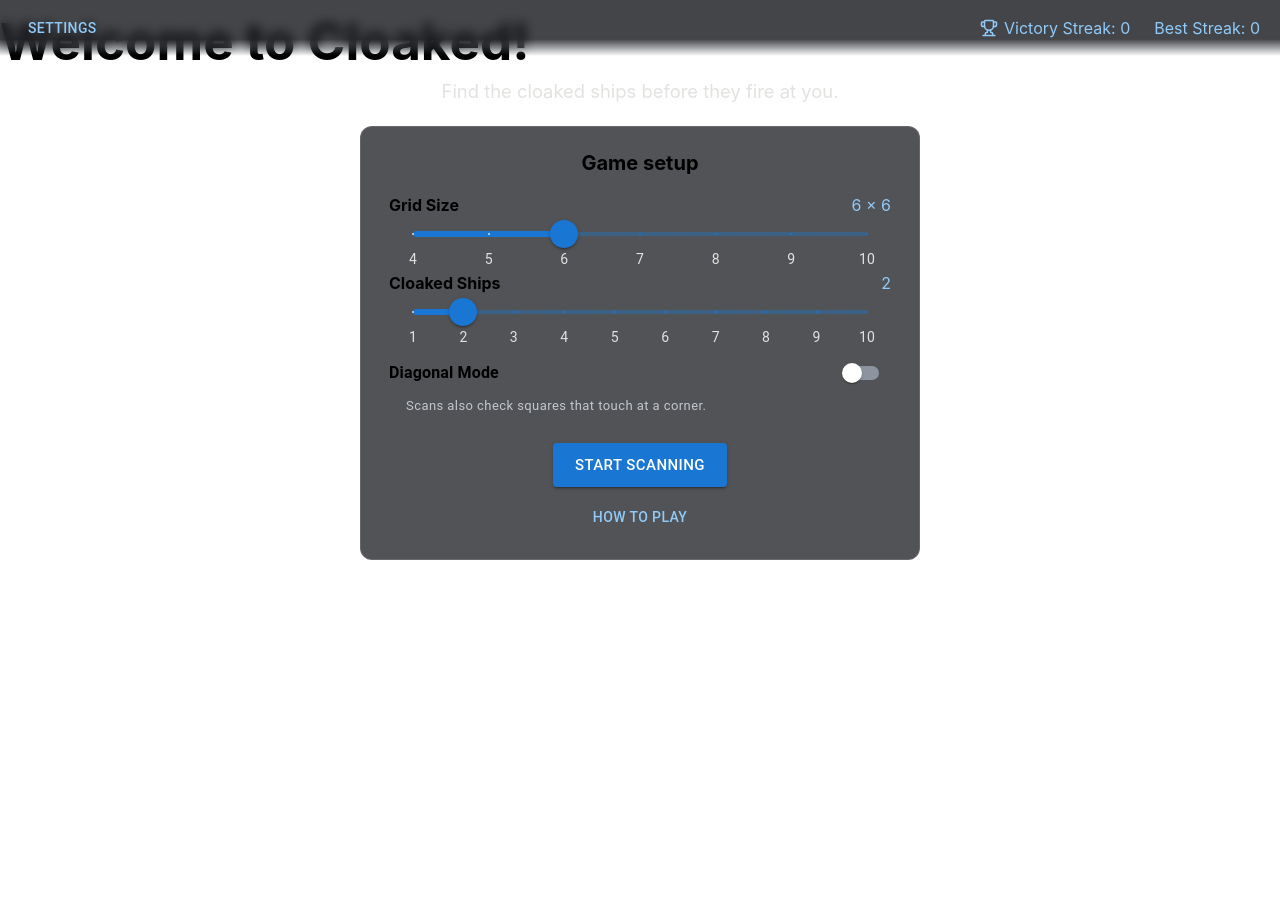
Test case: setup screen › opens How to Play
Click the button "How to Play".
click(640, 517)  # box [585,495,695,539]
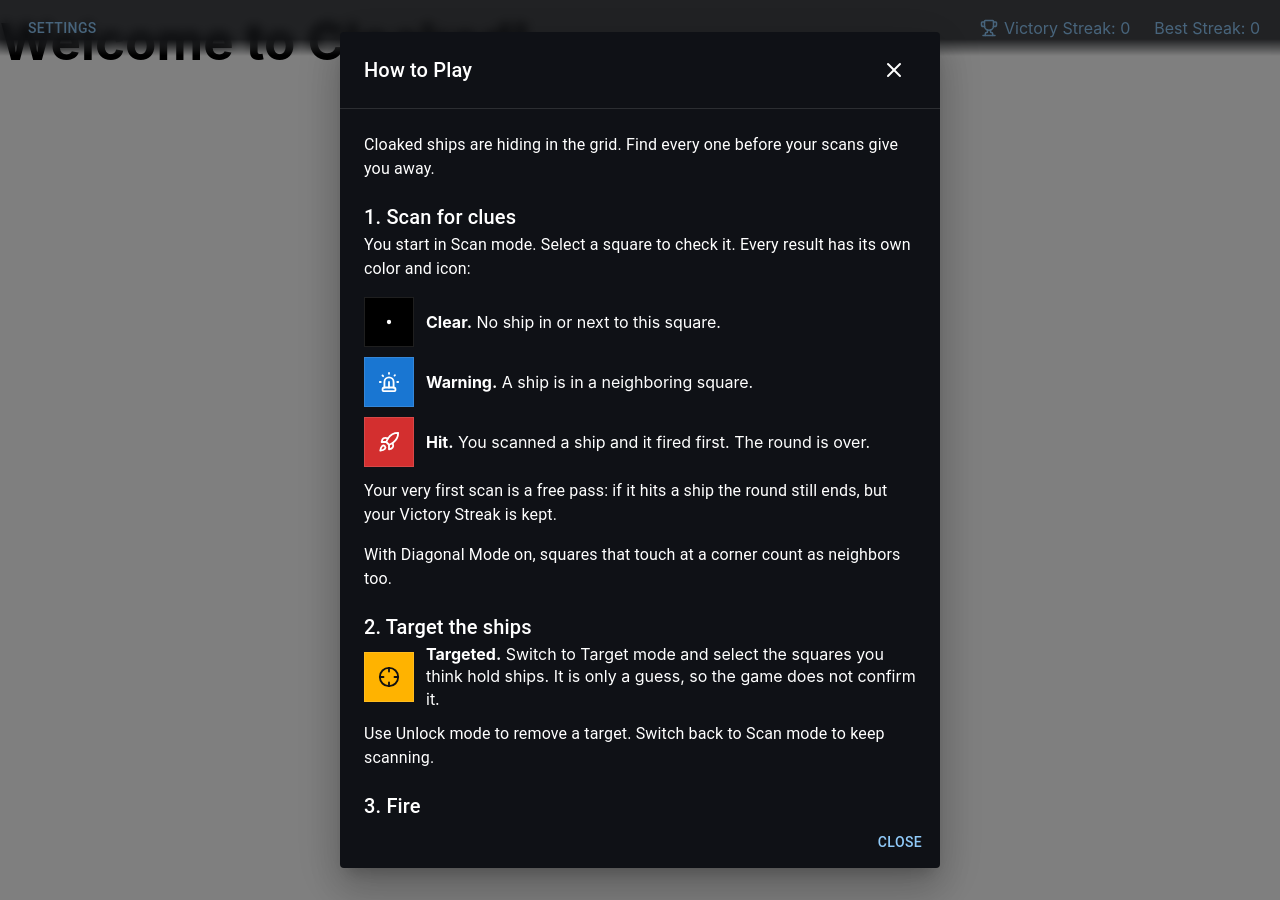
Check: the dialog is shown, box [340,32,940,868]
